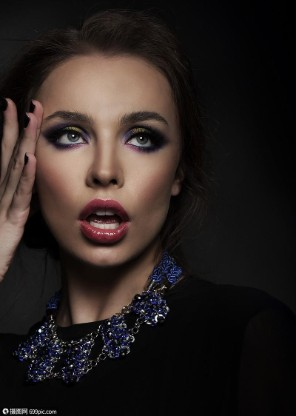张嘴: (70, 188, 133, 247)
